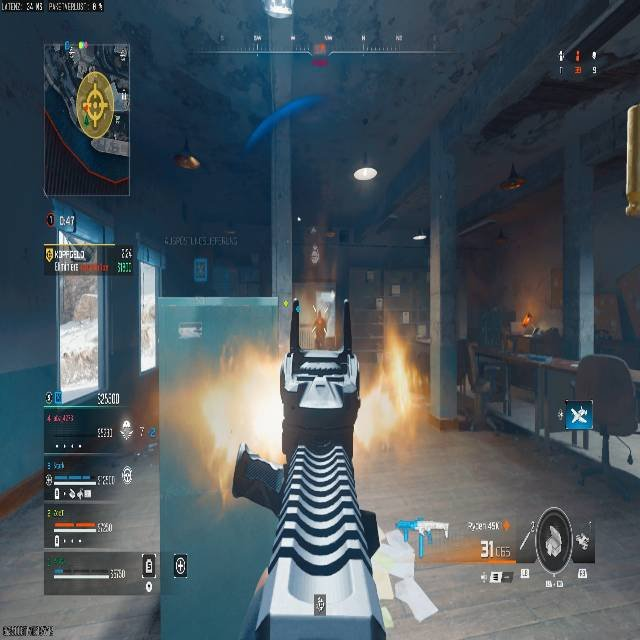head: (387, 530, 403, 545)
player: (372, 529, 440, 624), (312, 308, 327, 345)
